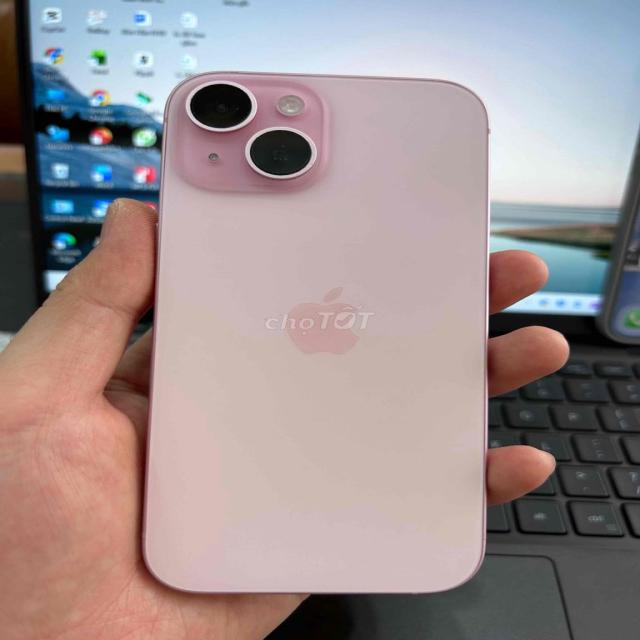gen_15: (140, 50, 516, 612)
